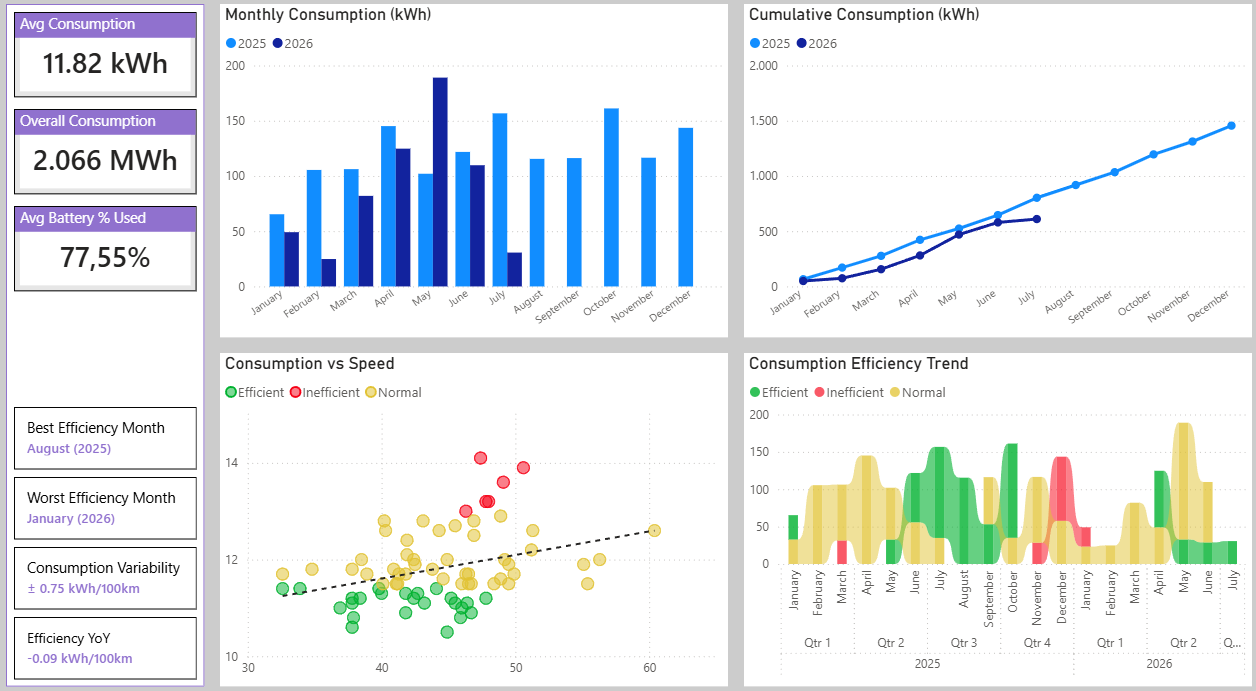

The page's visual inventory and layout, read from the dashboard file:
{"tool":"powerbi","page":{"name":"Energy & Battery Performance","canvas":[1280,720],"ordinal":2},"visuals":[{"type":"clusteredColumnChart","title":"Monthly Consumption (kWh)","fields":{"Category":["dim_date.month_name"],"Series":["dim_date.year"],"Y":["Sum(trip_reports_enriched.total_consumption_kwh)"]},"box":[224,16,512,336],"z":0},{"type":"shape","box":[8,8,200,704],"z":1000},{"type":"lineChart","title":"Cumulative Consumption (kWh)","fields":{"Category":["dim_date.month_name"],"Series":["dim_date.year"],"Y":["trip_reports_enriched.Cumulative Energy Consumption Monthly"]},"box":[752,16,512,336],"z":2000},{"type":"cardVisual","title":"Overall Consumption","fields":{"Data":["trip_reports_enriched.Total Consumption Display"]},"box":[16,116,184,88],"z":3000},{"type":"cardVisual","title":"Avg Battery % Used","fields":{"Data":["Avg(trip_reports_enriched.battery_used_pct)"]},"box":[16,216,184,88],"z":4000},{"type":"ribbonChart","title":"Consumption Efficiency Trend","fields":{"Category":["dim_date.month_name"],"Series":["trip_reports_enriched.Efficiency Category"],"Y":["Sum(trip_reports_enriched.total_consumption_kwh)"]},"box":[752,368,512,336],"z":5000},{"type":"cardVisual","fields":{"Data":["trip_reports_enriched.Best Efficiency Month"]},"box":[16,424,184,64],"z":6000},{"type":"cardVisual","fields":{"Data":["trip_reports_enriched.Worst Efficiency Month"]},"box":[16,496,184,64],"z":7000},{"type":"cardVisual","fields":{"Data":["trip_reports_enriched.Consumption Variability Display"]},"box":[16,568,184,64],"z":8000},{"type":"cardVisual","fields":{"Data":["dim_date.Efficiency YoY"]},"box":[16,640,184,64],"z":9000},{"type":"slicer","fields":{"Values":["dim_date.date_key.Variation.Date Hierarchy.Year"]},"box":[1120,368,144,48],"z":10000},{"type":"cardVisual","title":"Avg Consumption","fields":{"Data":["trip_reports_enriched.Avg Consumption Display"]},"box":[16,16,184,88],"z":11000},{"type":"scatterChart","title":"Consumption vs Speed","fields":{"X":["trip_reports_enriched.average_speed"],"Y":["trip_reports_enriched.avg_consumption_kwh_100km"],"Series":["trip_reports_enriched.Efficiency Category"]},"box":[224,368,512,336],"z":12000}]}

Visuals, with their boxes in screenshot pixels (x1, y1, x2, y2), scaled from the page's 1280x720 canvas onto the 1256x691 screenshot:
"Monthly Consumption (kWh)" clusteredColumnChart: x1=220 y1=15 x2=722 y2=338
shape: x1=8 y1=8 x2=204 y2=683
"Cumulative Consumption (kWh)" lineChart: x1=738 y1=15 x2=1240 y2=338
"Overall Consumption" cardVisual: x1=16 y1=111 x2=196 y2=196
"Avg Battery % Used" cardVisual: x1=16 y1=207 x2=196 y2=292
"Consumption Efficiency Trend" ribbonChart: x1=738 y1=353 x2=1240 y2=676
cardVisual - trip_reports_enriched.Best Efficiency Month: x1=16 y1=407 x2=196 y2=468
cardVisual - trip_reports_enriched.Worst Efficiency Month: x1=16 y1=476 x2=196 y2=537
cardVisual - trip_reports_enriched.Consumption Variability Display: x1=16 y1=545 x2=196 y2=607
cardVisual - dim_date.Efficiency YoY: x1=16 y1=614 x2=196 y2=676
slicer - dim_date.date_key.Variation.Date Hierarchy.Year: x1=1099 y1=353 x2=1240 y2=399
"Avg Consumption" cardVisual: x1=16 y1=15 x2=196 y2=100
"Consumption vs Speed" scatterChart: x1=220 y1=353 x2=722 y2=676
